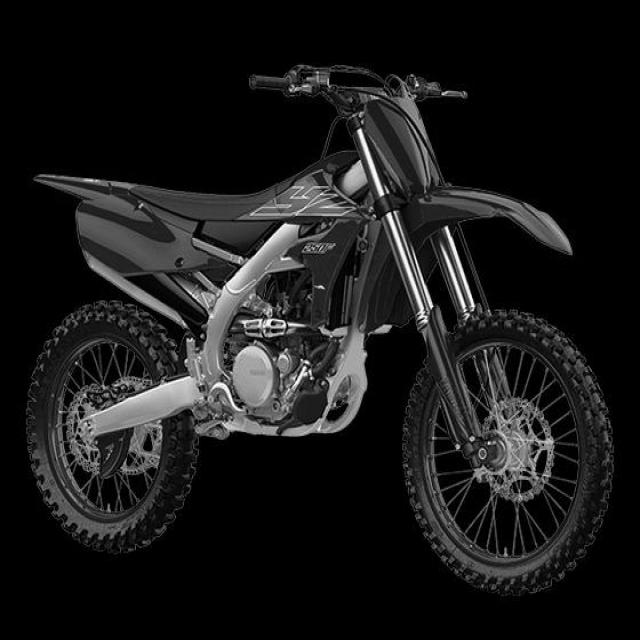Motorcycle: (26, 65, 613, 596)
